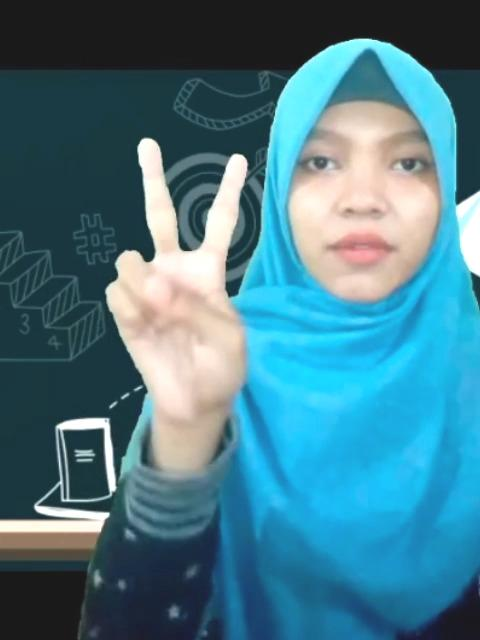V: (104, 132, 255, 426)
